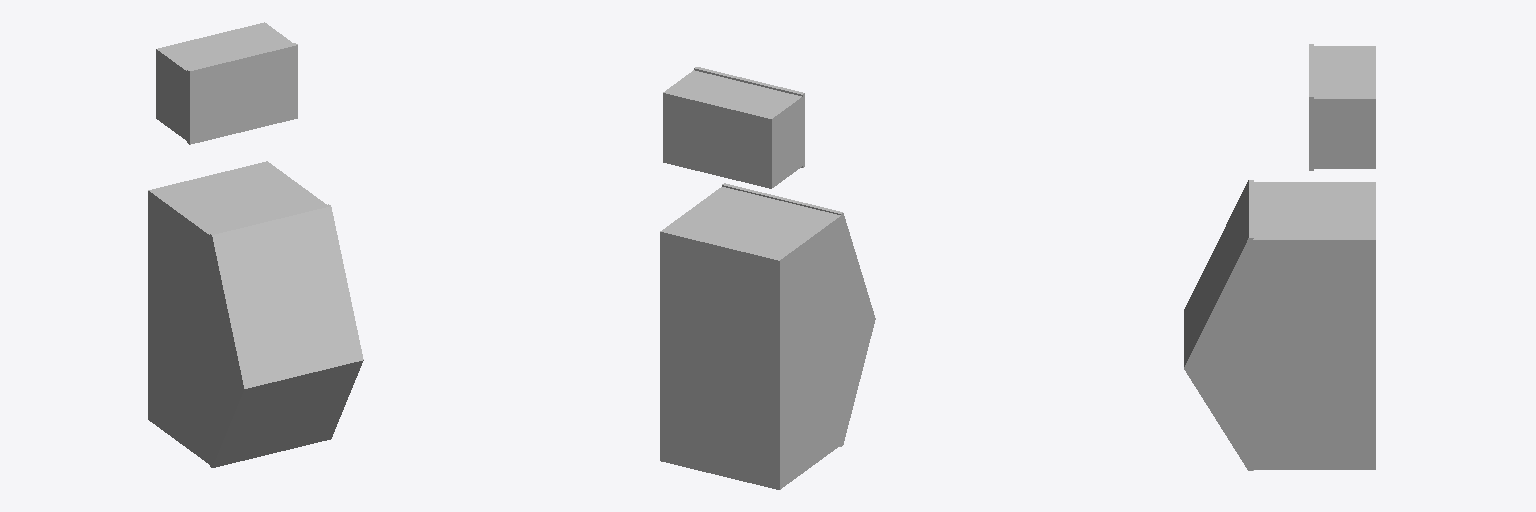
File: haviklaan-6.ifc.obj
The picture shows the model from 3 angles: view 1: azimuth 30°, elevation 25°; view 2: azimuth 150°, elevation 25°; view 3: azimuth 270°, elevation 25°; orthographic projection.
Visible parts, largest first — view 1: Outer Wall, Dak8, Dak7, Dak9, Floor; view 2: Floor, Outer Wall, Dak8, Dak9; view 3: Outer Wall, Dak8, Floor, Dak9.
Boxes of the visible parts, <box> form: Outer Wall: <box>151,25,326,464</box>; Dak8: <box>210,204,363,388</box>; Dak7: <box>210,360,363,467</box>; Dak9: <box>187,43,297,144</box>; Floor: <box>148,22,269,421</box>; Floor: <box>660,91,782,489</box>; Outer Wall: <box>663,70,872,486</box>; Dak8: <box>722,183,875,320</box>; Dak9: <box>694,67,804,167</box>; Outer Wall: <box>1189,46,1369,469</box>; Dak8: <box>1184,180,1253,368</box>; Floor: <box>1370,46,1375,469</box>; Dak9: <box>1309,44,1313,170</box>.
Bounding box in the file's own units: 6.8 × 20.3 × 9.5.